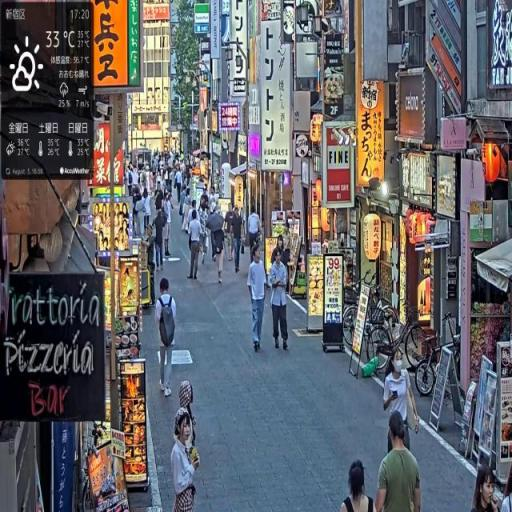person: (374, 412, 423, 512), (171, 408, 202, 512), (385, 351, 420, 442), (155, 277, 178, 400), (247, 245, 269, 355), (269, 248, 291, 353), (341, 460, 376, 512), (470, 462, 502, 512), (210, 204, 227, 288), (187, 206, 204, 283), (231, 204, 246, 274), (154, 205, 167, 272), (247, 206, 262, 264), (163, 192, 174, 261)
